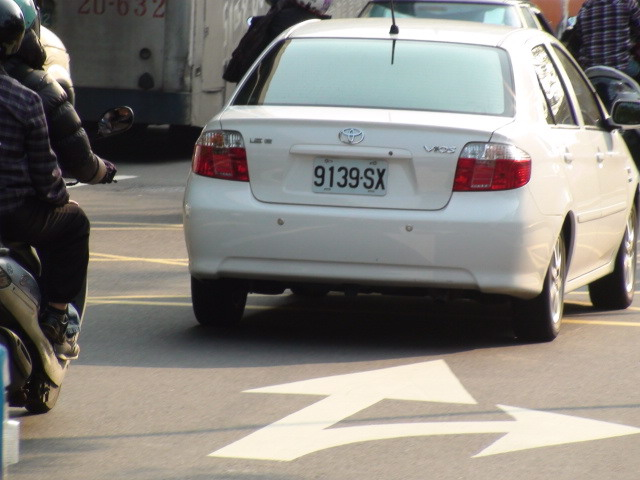plate: (310, 155, 389, 197)
